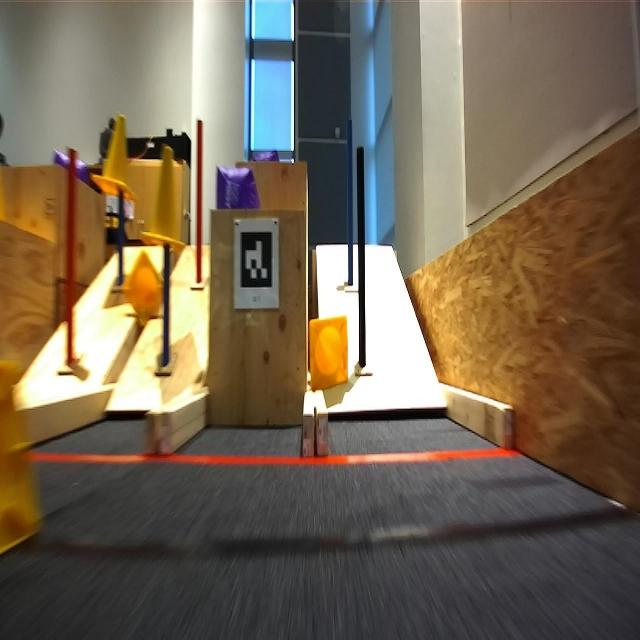frc_cone: (0, 360, 40, 566), (140, 143, 189, 256), (92, 108, 134, 202), (308, 312, 352, 396), (121, 246, 164, 330)
frc_cube: (214, 160, 258, 212), (49, 149, 90, 178), (248, 149, 281, 161)
